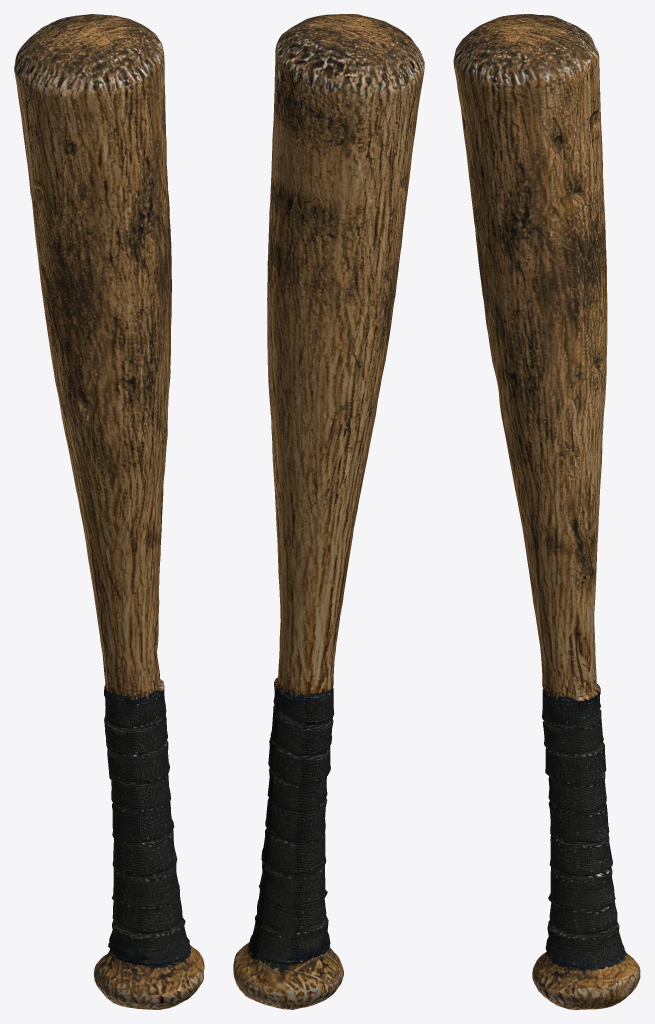
Rendered from melee_bat.13217a4b9c.glb.
3 renders of one model, left to right at view 1: azimuth 30°, elevation 25°; view 2: azimuth 150°, elevation 25°; view 3: azimuth 330°, elevation 25°, orthographic. The views are drawn at different scales.
Visible parts, largest first — view 1: melee_bat; view 2: melee_bat; view 3: melee_bat.
Part boxes in pixels (x1,y1,x2,y2): melee_bat: (14,14,204,1009); melee_bat: (233,14,424,1009); melee_bat: (453,14,640,1009).
Bounding box in the file's own units: 0.1563 × 0.84 × 0.1086.
1 material, 1 textured.
